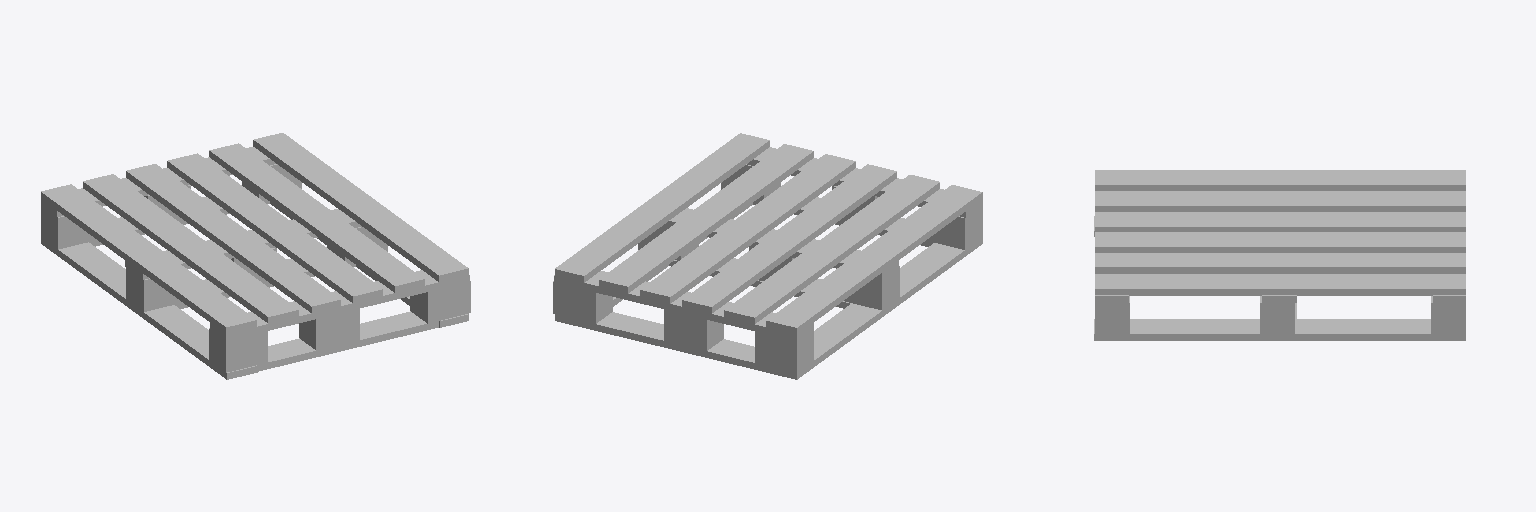
The model's file is palsingle.obj.
The picture shows the model from 3 angles: view 1: azimuth 30°, elevation 25°; view 2: azimuth 150°, elevation 25°; view 3: azimuth 270°, elevation 25°; orthographic projection.
Visible parts, largest first — view 1: Group; view 2: Group; view 3: Group.
Boxes of the visible parts, x1,y1,x2,y2 form: Group: [41, 133, 470, 379]; Group: [553, 133, 982, 379]; Group: [1094, 170, 1465, 340].
Size of the model in its own units: 37.72 by 7.67 by 49.86.